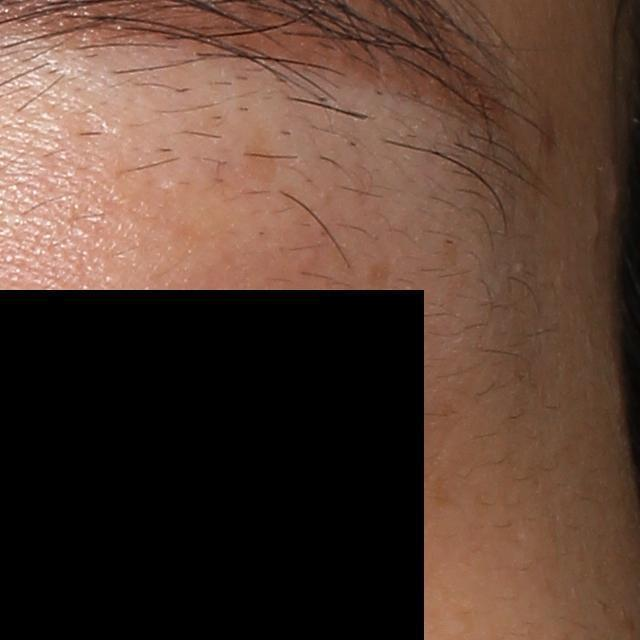melasma: (362, 254, 396, 299)
